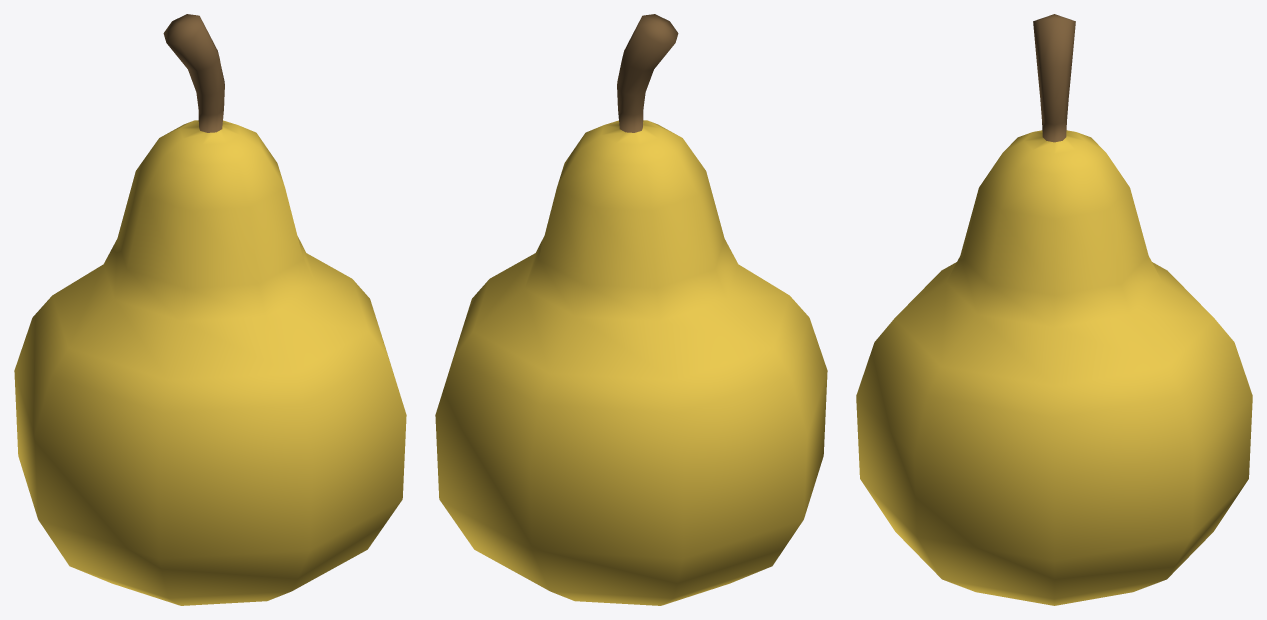
The model's file is pear.glb.
3 renders of one model, left to right at view 1: azimuth 30°, elevation 25°; view 2: azimuth 150°, elevation 25°; view 3: azimuth 270°, elevation 25°, orthographic. The views are drawn at different scales.
Parts seen in each view (by area): view 1: pear; view 2: pear; view 3: pear.
Part boxes in pixels (box(x1,y1,x2,y2)): pear: box(14, 14, 406, 605); pear: box(435, 14, 827, 605); pear: box(856, 14, 1252, 605).
Bounding box in the file's own units: 0.123 × 0.1879 × 0.123.
